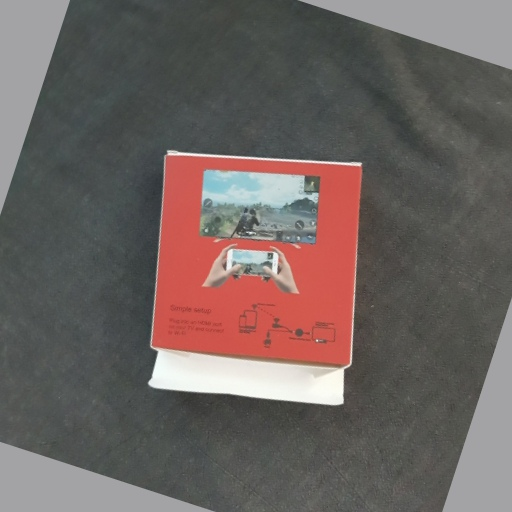Paper_0: (139, 142, 369, 421)
